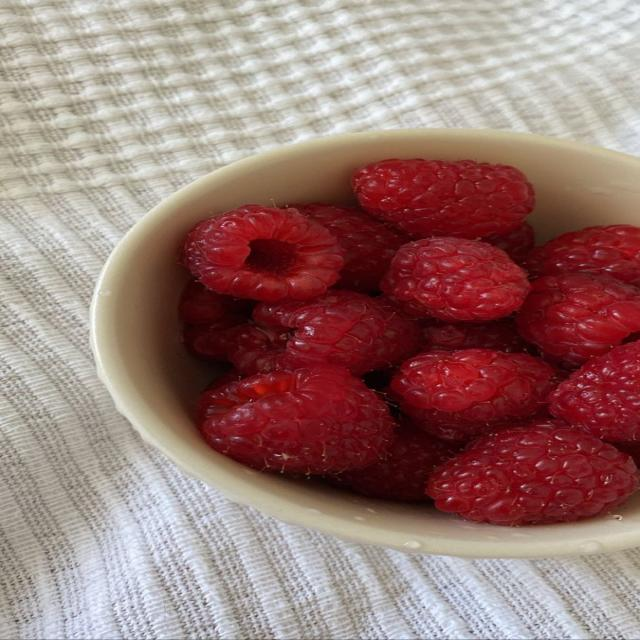raspberry: (428, 421, 638, 525), (200, 366, 395, 473), (229, 290, 419, 374), (183, 206, 344, 300), (392, 349, 555, 440), (352, 159, 533, 238), (382, 238, 530, 321), (516, 274, 639, 367), (291, 203, 408, 292), (330, 420, 456, 500), (550, 342, 639, 441), (526, 225, 639, 285), (179, 281, 254, 361), (421, 318, 534, 352), (226, 323, 290, 375), (179, 281, 255, 324), (183, 315, 243, 361), (196, 367, 242, 424), (179, 280, 232, 324), (483, 222, 534, 264), (612, 440, 639, 466)
